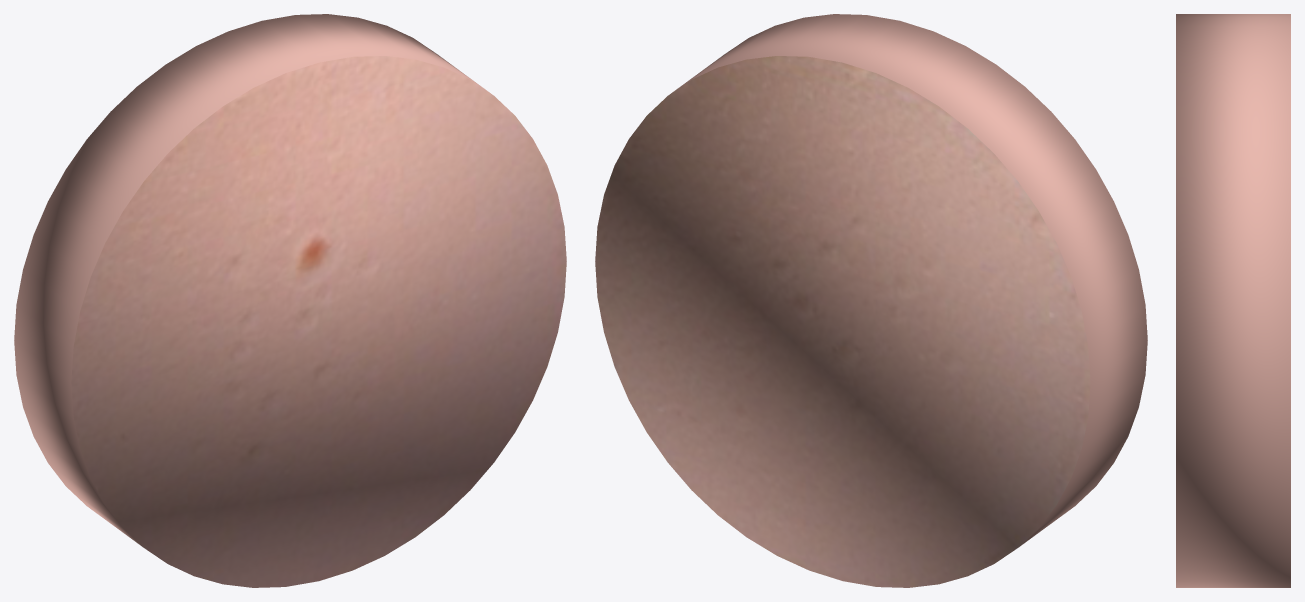
File: 20180111GOPHDRGPT29356.fbx
3 renders of one model, left to right at view 1: azimuth 30°, elevation 25°; view 2: azimuth 150°, elevation 25°; view 3: azimuth 270°, elevation 25°, orthographic.
Parts seen in each view (by area): view 1: 貝茲圓.001; view 2: 貝茲圓.001; view 3: 貝茲圓.001.
Boxes of the visible parts, x1=… form: 貝茲圓.001: x1=14, y1=14, x2=566, y2=587; 貝茲圓.001: x1=595, y1=14, x2=1147, y2=587; 貝茲圓.001: x1=1176, y1=14, x2=1290, y2=587.
Bounding box in the file's own units: 0.9997 × 0.9997 × 0.1999.
